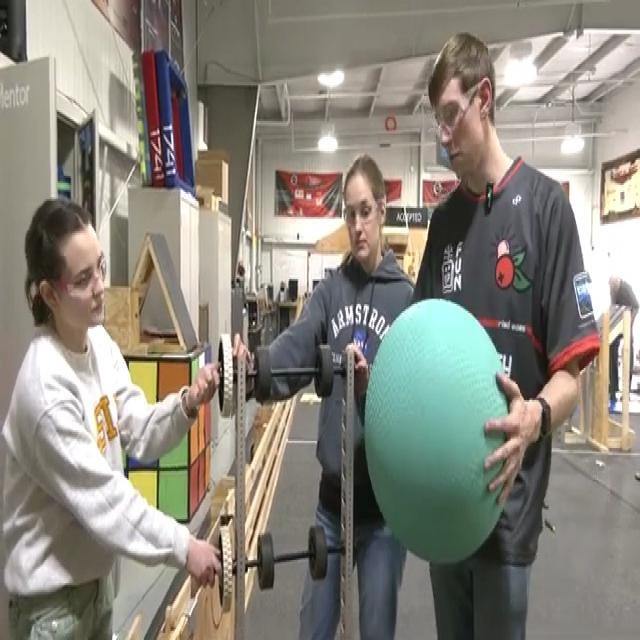Algae: (363, 295, 511, 565)
